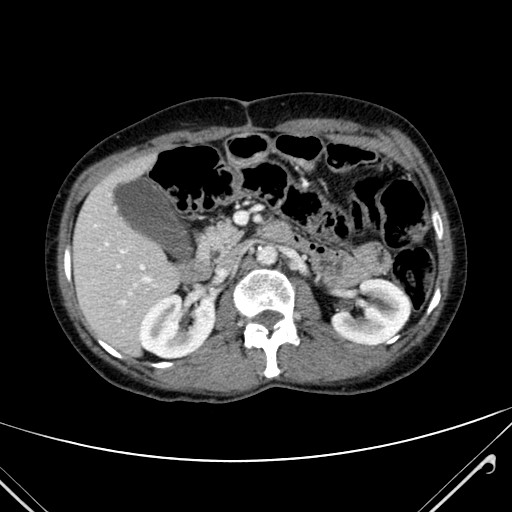vesicula: (111, 175, 197, 265)
